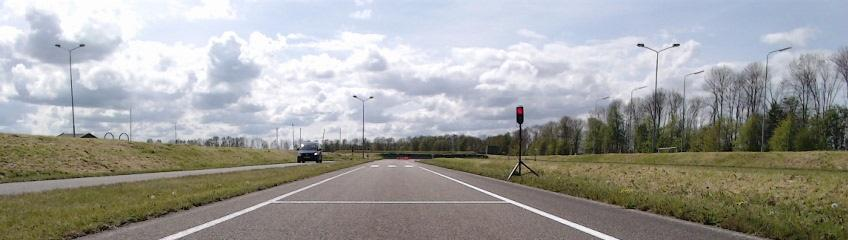TrafficLight-red: (517, 107, 523, 123)
